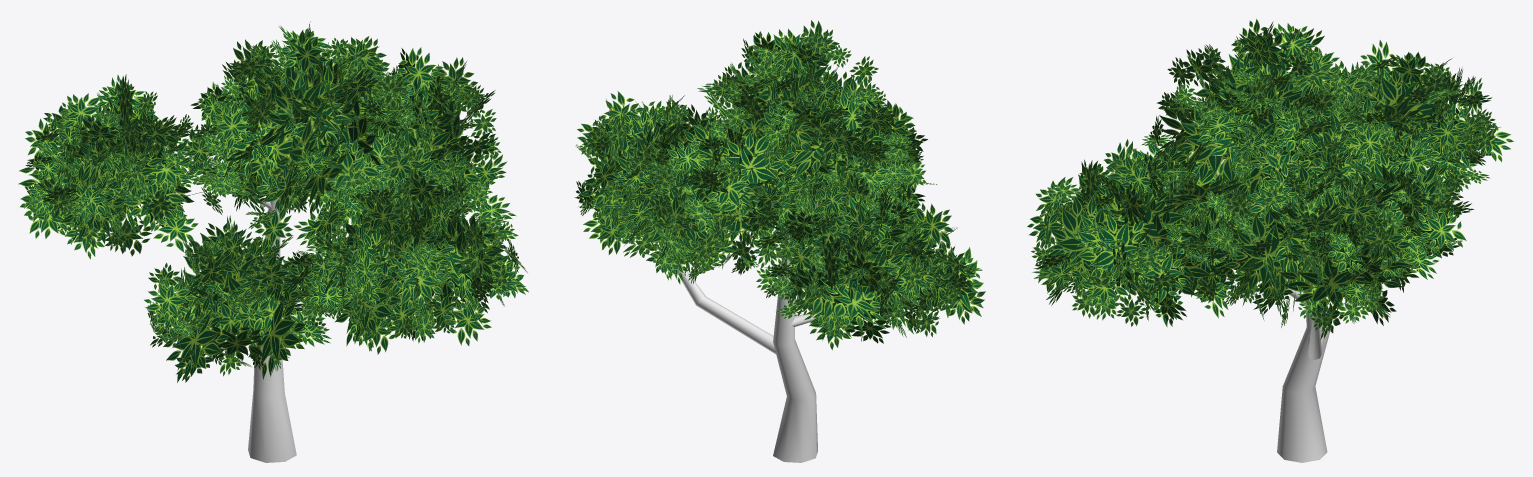
Rendered from Tree2_LOD0.fbx.
3 views of the same model, side by side, from view 1: azimuth 30°, elevation 25°; view 2: azimuth 150°, elevation 25°; view 3: azimuth 270°, elevation 25° (orthographic). The views are drawn at different scales.
Visible parts, largest first — view 1: Tree2.001; view 2: Tree2.001; view 3: Tree2.001.
Boxes of the visible parts, x1,y1,x2,y2 form: Tree2.001: [18, 21, 528, 462]; Tree2.001: [574, 20, 985, 462]; Tree2.001: [1027, 19, 1513, 462].
Bounding box in the file's own units: 1079 × 1081 × 1095.
